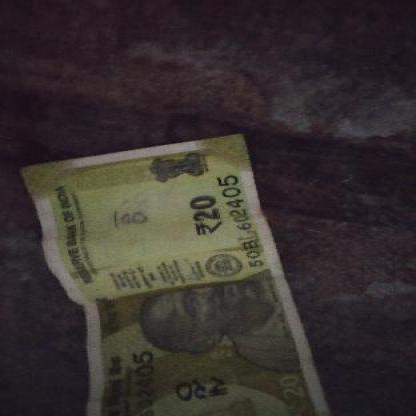New20Front: (20, 133, 319, 415)
